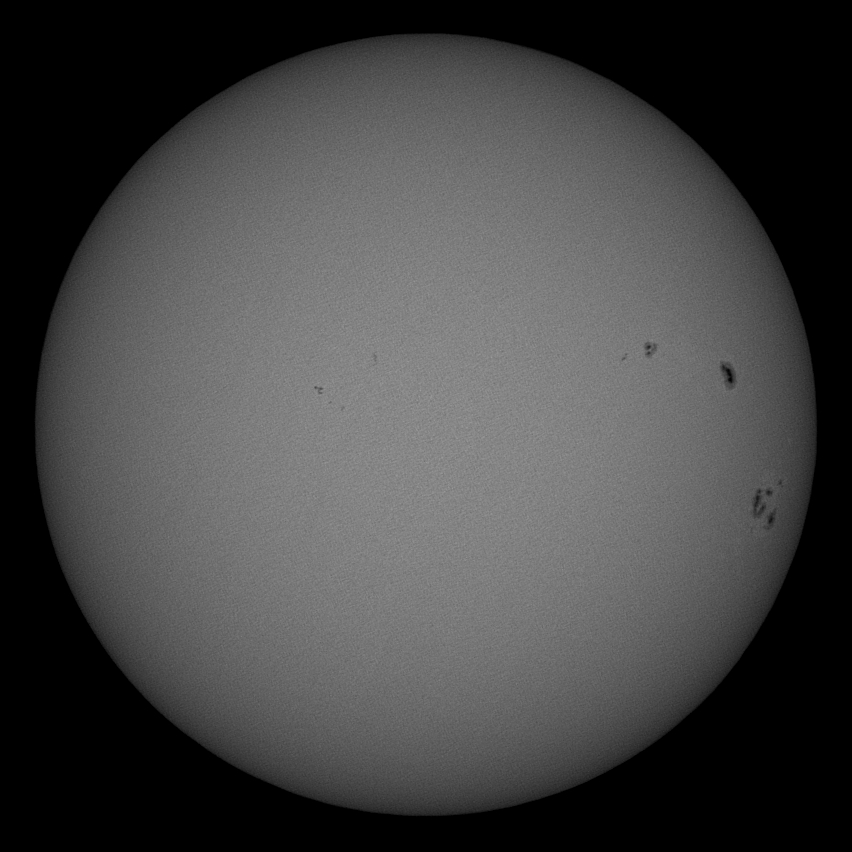sunspot: (747, 475, 780, 532), (716, 357, 741, 395), (640, 336, 660, 361), (309, 380, 329, 398)
